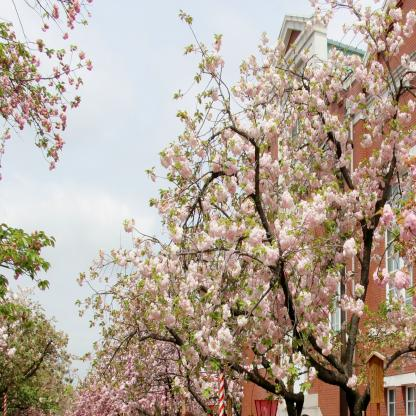YaeSakura: (302, 0, 416, 382), (154, 0, 249, 416), (0, 0, 96, 323), (233, 27, 315, 401), (78, 212, 207, 416), (7, 301, 70, 416), (69, 344, 156, 415), (0, 282, 38, 376)
